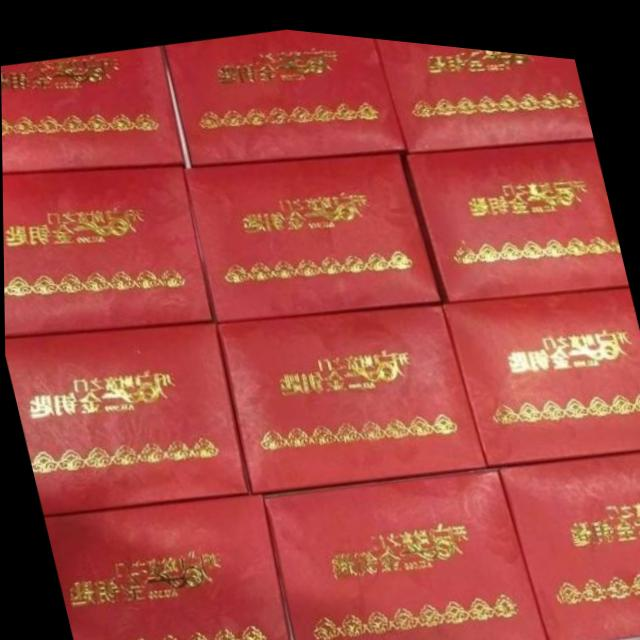box: (212, 295, 487, 487), (262, 458, 548, 640), (4, 318, 247, 513), (182, 142, 438, 317), (403, 126, 629, 292), (43, 488, 288, 640), (2, 162, 212, 337), (441, 274, 640, 457), (164, 24, 405, 160), (497, 438, 640, 638), (374, 31, 593, 144), (1, 44, 183, 173)
